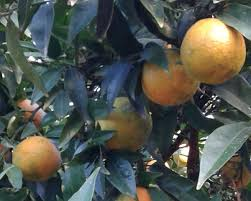orange: (175, 16, 247, 81), (134, 46, 199, 105), (96, 96, 153, 151), (12, 132, 61, 179)
